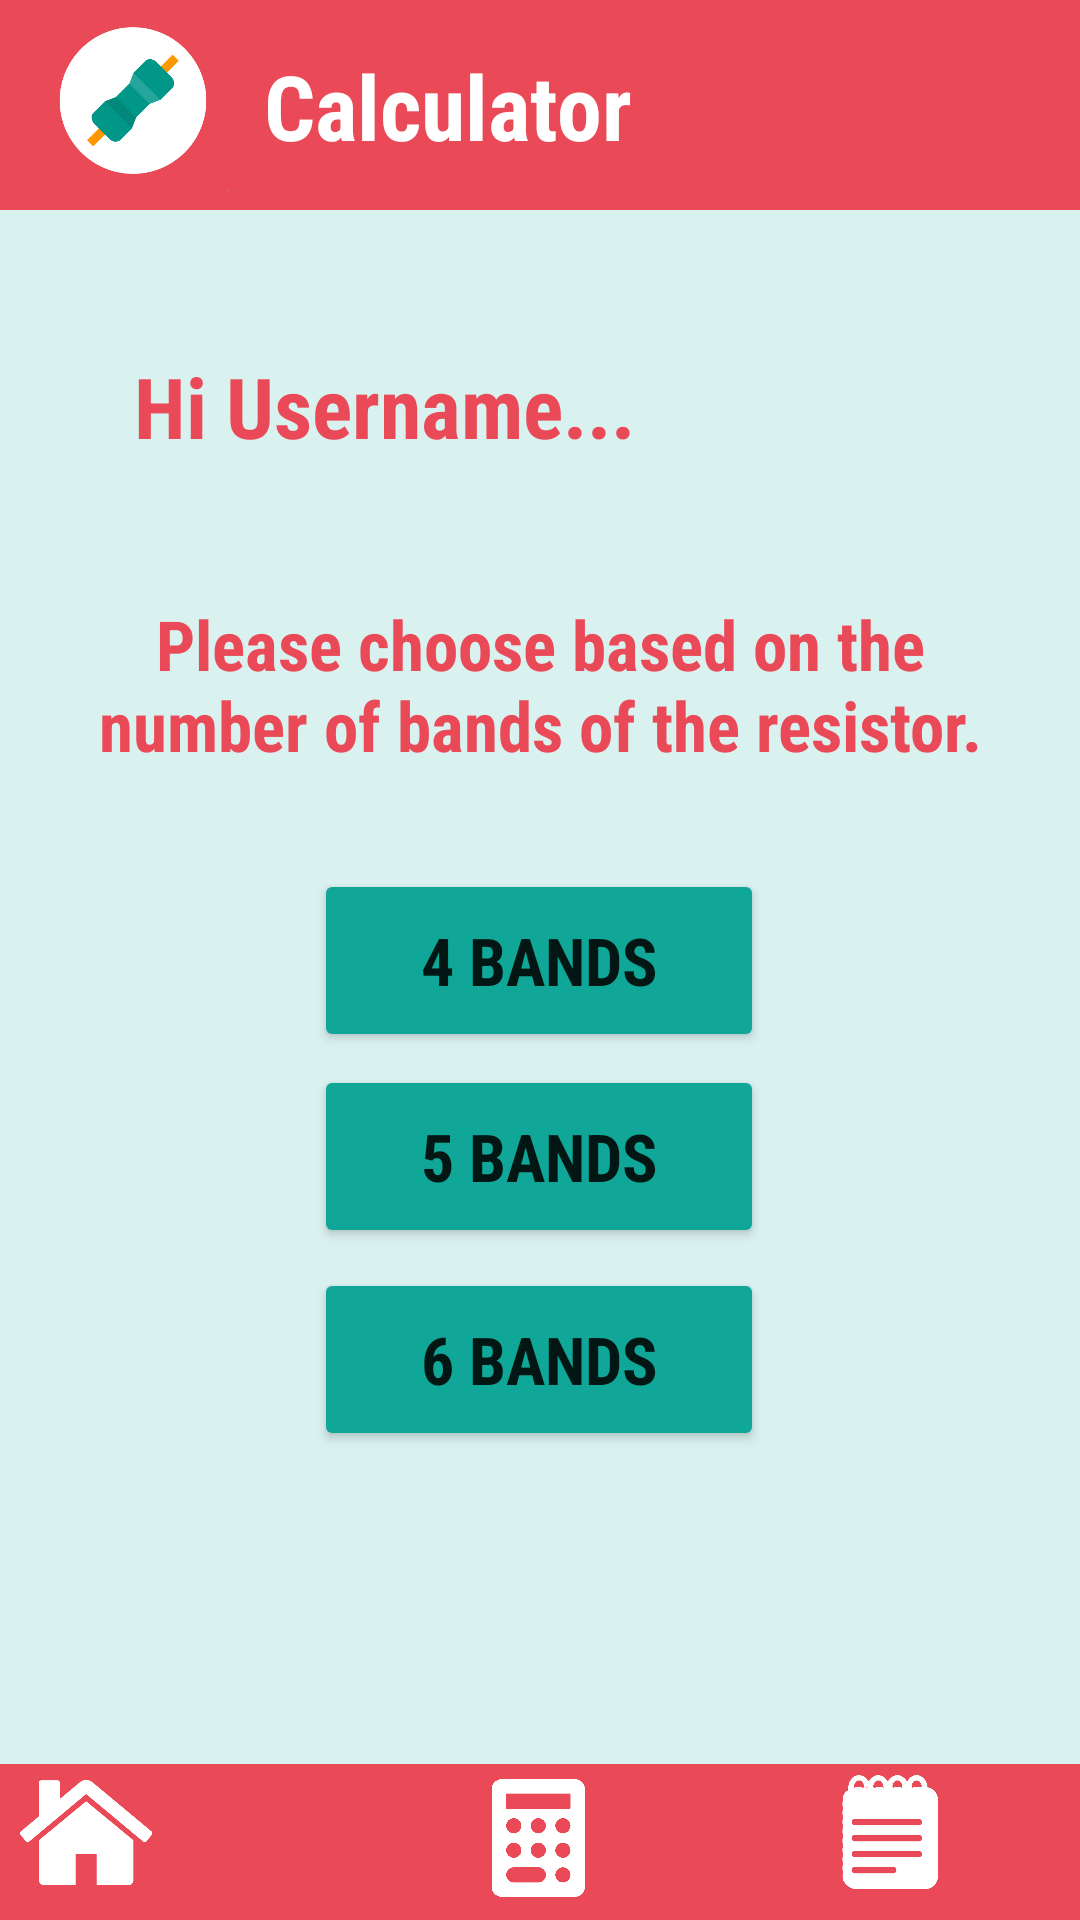

Named icons in this screenshot (1080 x 1920) and their bounding boxes, {"left": x1, "top": y1, "right": x2, "bottom": y2}:
calc: {"left": 492, "top": 1779, "right": 585, "bottom": 1897}
home: {"left": 20, "top": 1780, "right": 152, "bottom": 1885}
notes: {"left": 842, "top": 1775, "right": 938, "bottom": 1889}
resist: {"left": 60, "top": 27, "right": 229, "bottom": 191}
